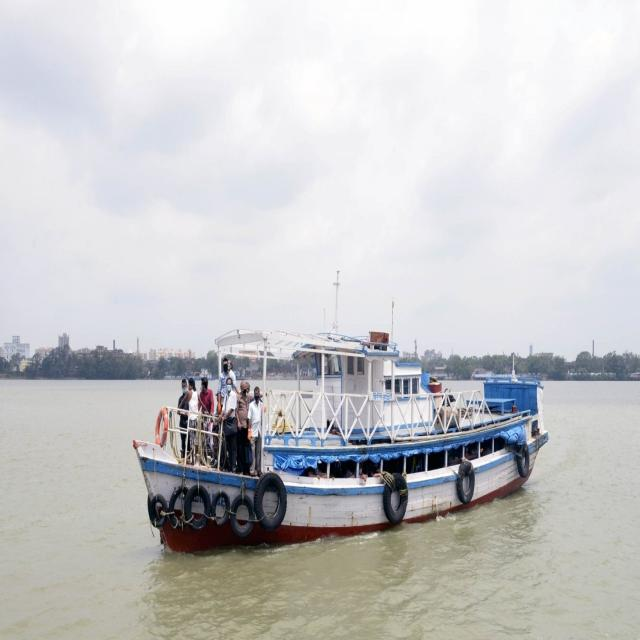fishing boat: (140, 321, 548, 541)
